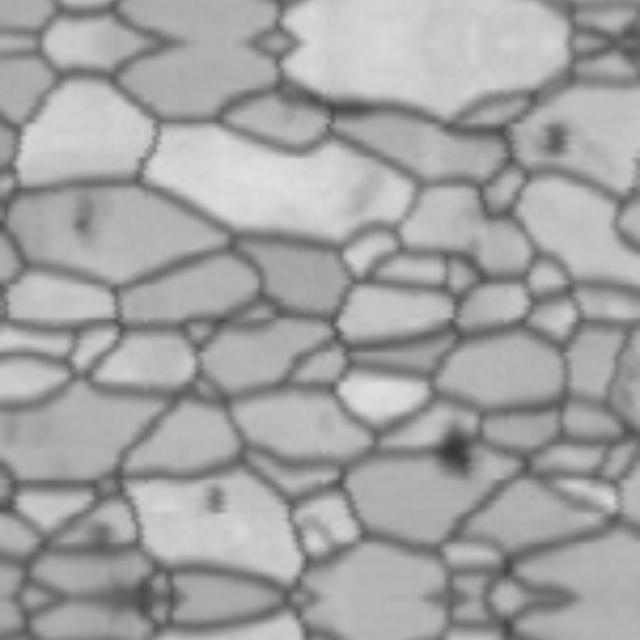good_void: (518, 107, 585, 165), (431, 413, 484, 486), (63, 187, 99, 237), (193, 478, 229, 516)
